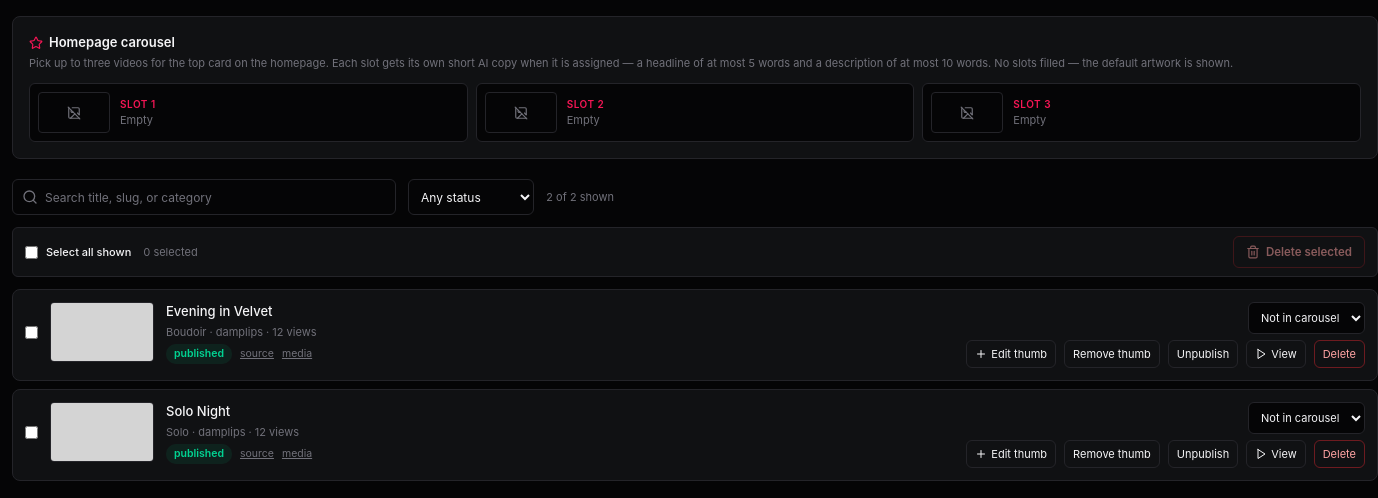
it: VideoManager › filters the table by title, slug, or category
The image size is (1378, 498).
Type "solo" into the search field named "Search videos" at coordinates (204, 197), box [12,179,396,215]
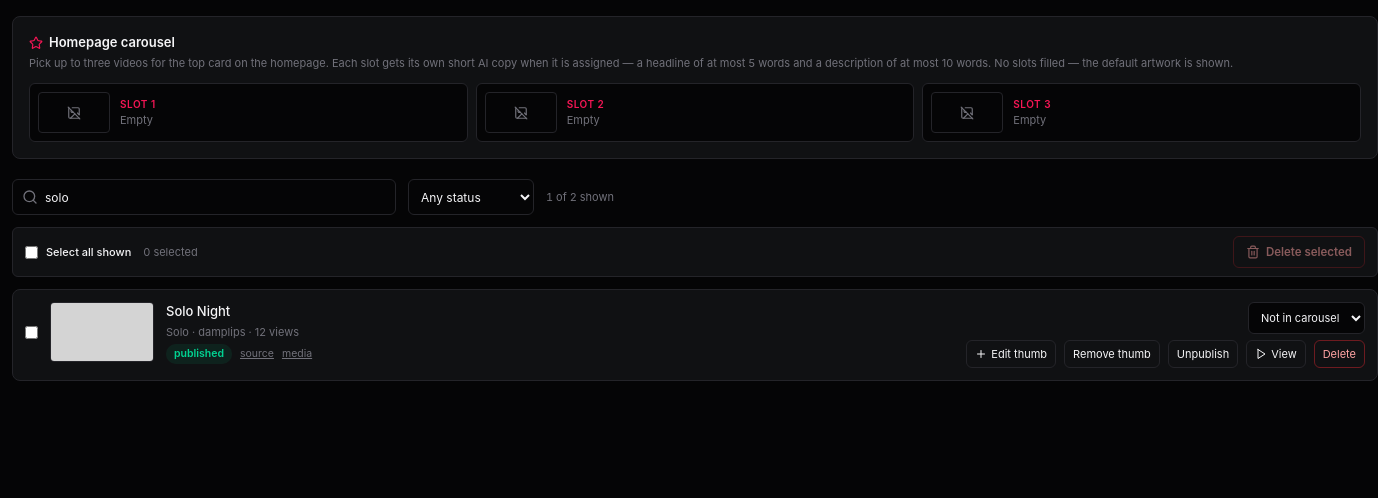
Expected: the text "Solo Night" is shown, [166,303,230,319]
Expected: the text "Evening in Velvet" is gone
Expected: the text "1 of 2 shown" is shown, [546,189,614,206]
